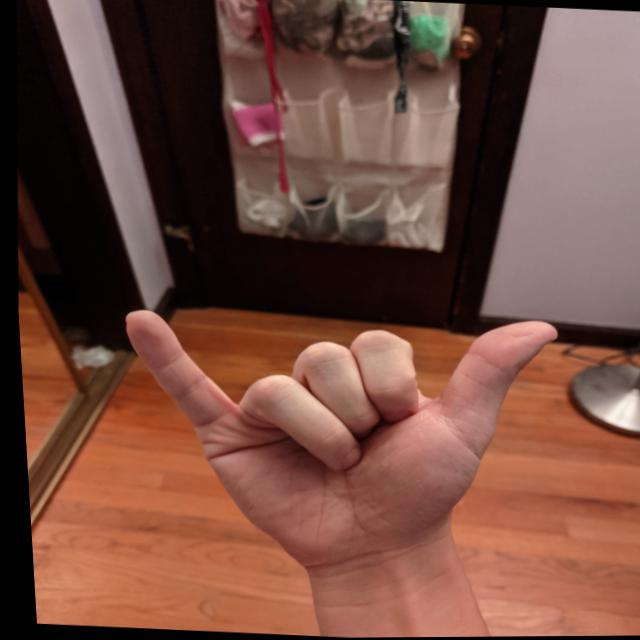Y: (101, 294, 575, 582)
